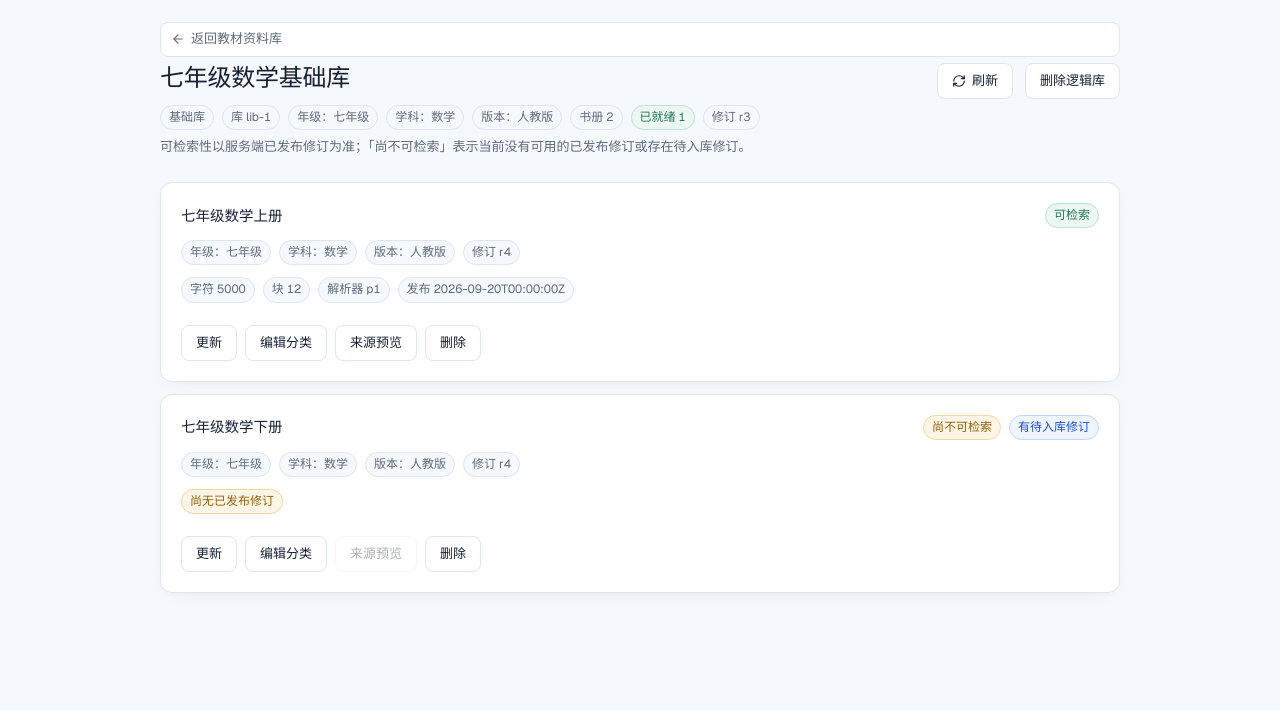
Test: 教材库详情 › 列表刷新失败保留当前编辑且暂停旧快照上的更新、删除和新编辑
Click the button "编辑分类" below "七年级数学上册".
click(286, 343)  # box [245,325,327,361]
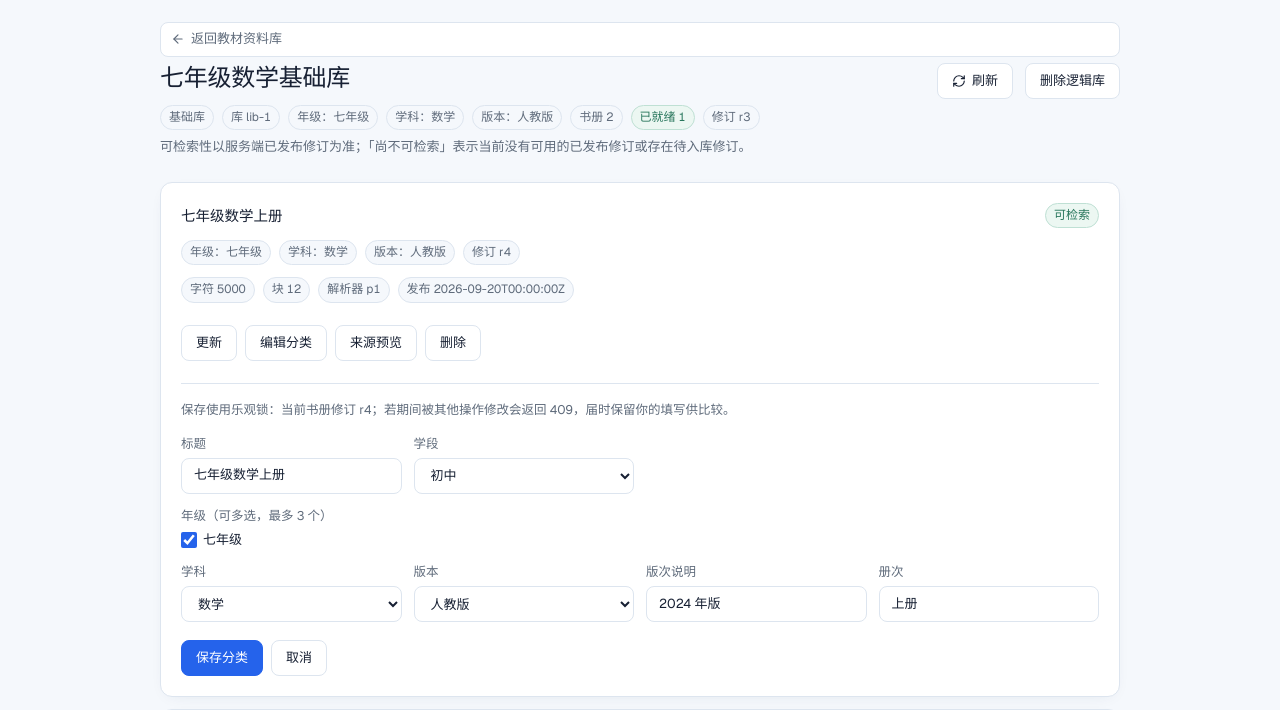
Replace the text in the field labelled "标题" with "教师保留标题" at (291, 476), box [181,458,402,494]
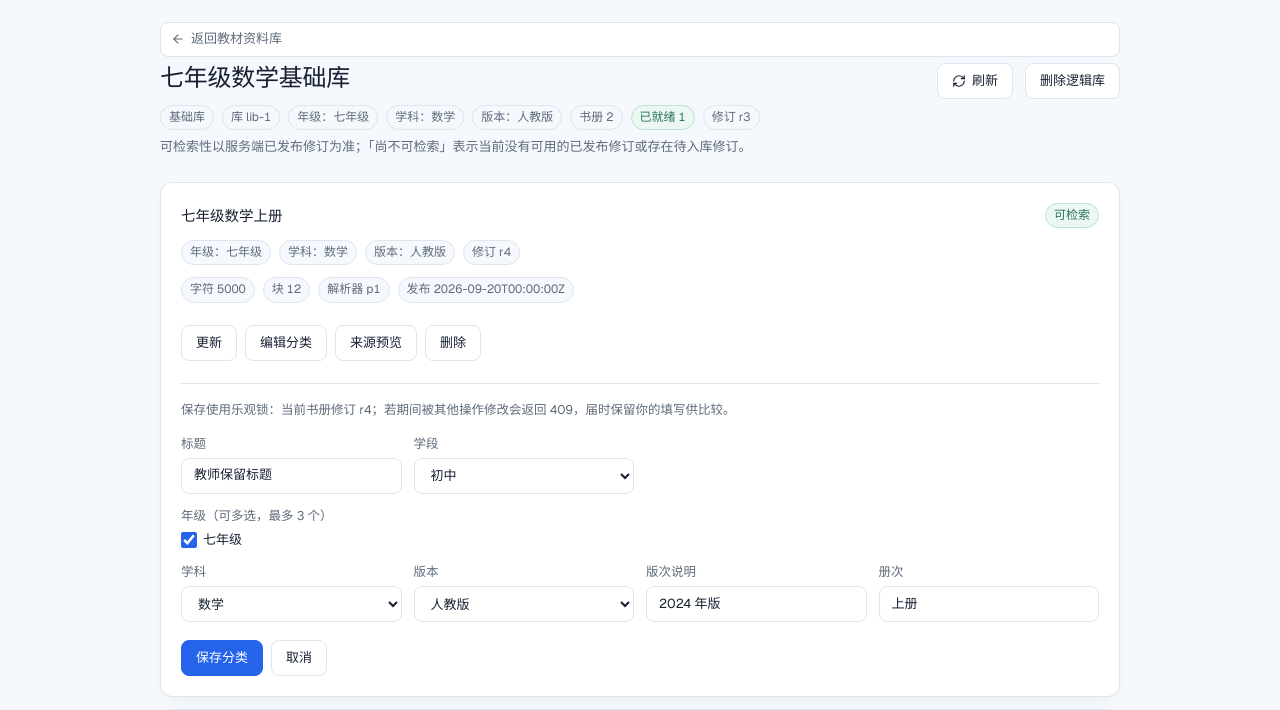
Click the button "刷新".
click(975, 81)  # box [937,63,1013,99]
(page scrolled)
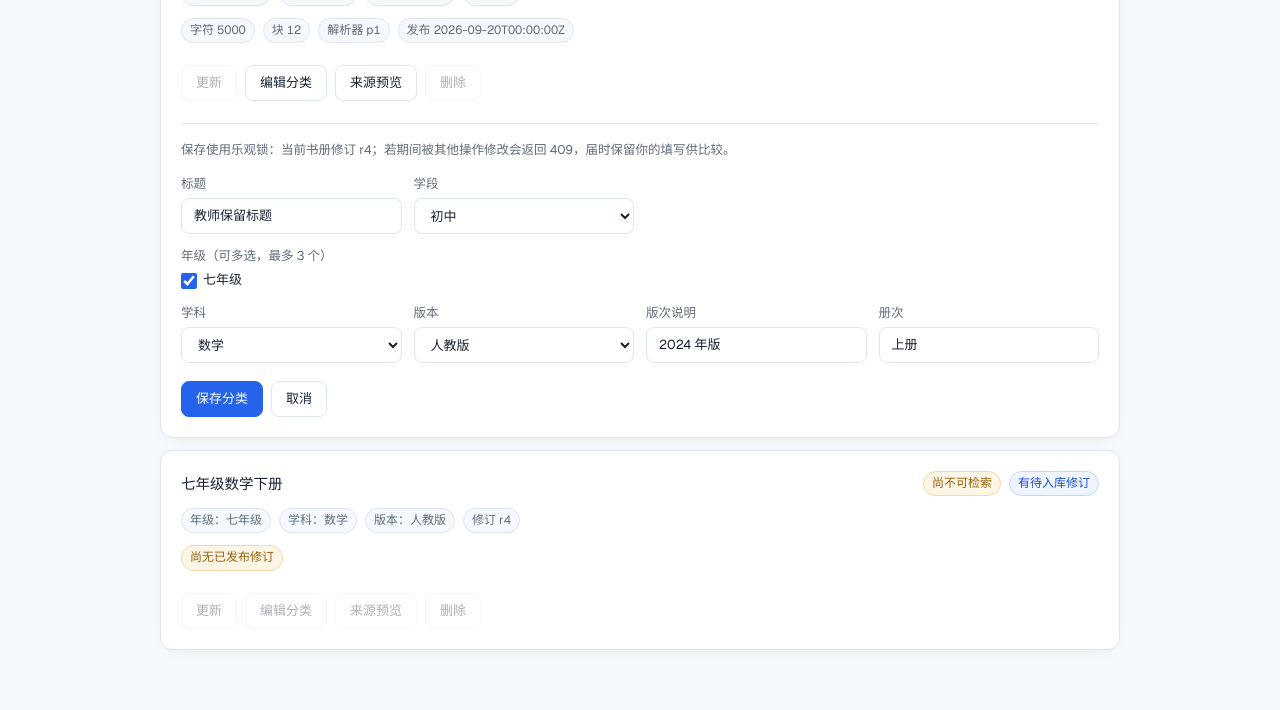
Now the button "更新" below "七年级数学上册" is disabled, box [181,65,237,101]
Now the button "更新" below "七年级数学下册" is disabled, box [181,593,237,629]
Now the button "删除" below "七年级数学下册" is disabled, box [425,593,481,629]
